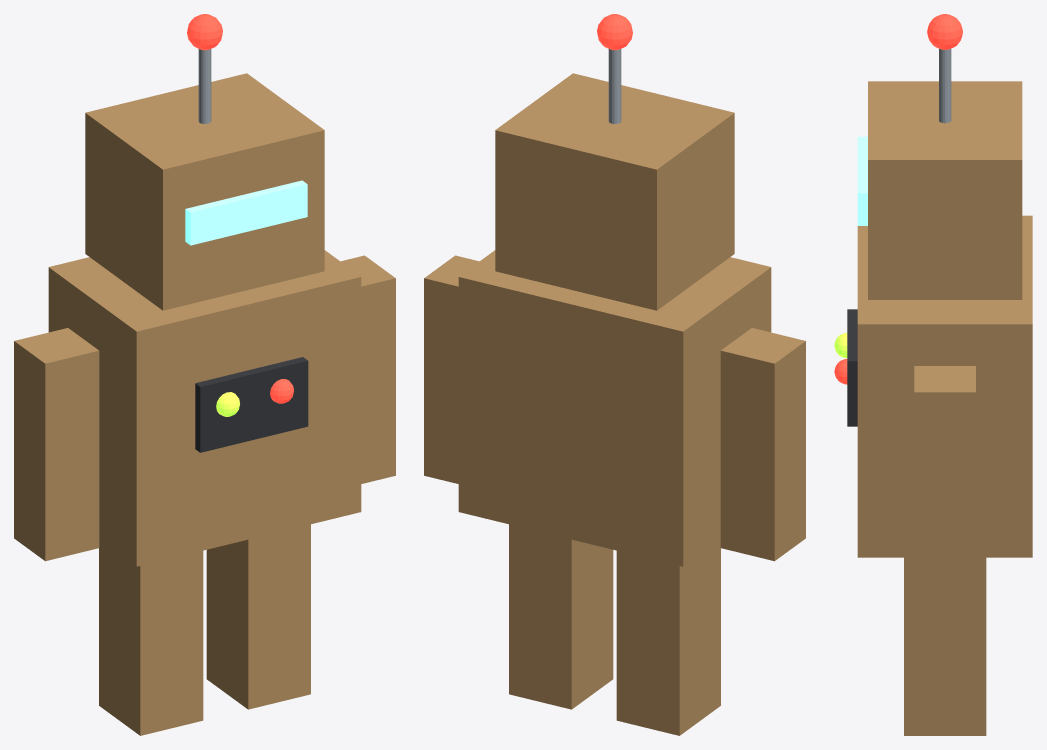
Rendered from robot-lod0.glb.
The picture shows the model from 3 angles, left to right: view 1: azimuth 30°, elevation 25°; view 2: azimuth 150°, elevation 25°; view 3: azimuth 270°, elevation 25°; orthographic projection.
Parts seen in each view (by area): view 1: robot; view 2: robot; view 3: robot.
Part boxes in pixels (x1=…): robot: x1=14, y1=14, x2=395, y2=735; robot: x1=424, y1=14, x2=805, y2=735; robot: x1=834, y1=14, x2=1032, y2=735.
Bounding box in the file's own units: 0.78 × 1.45 × 0.385.
